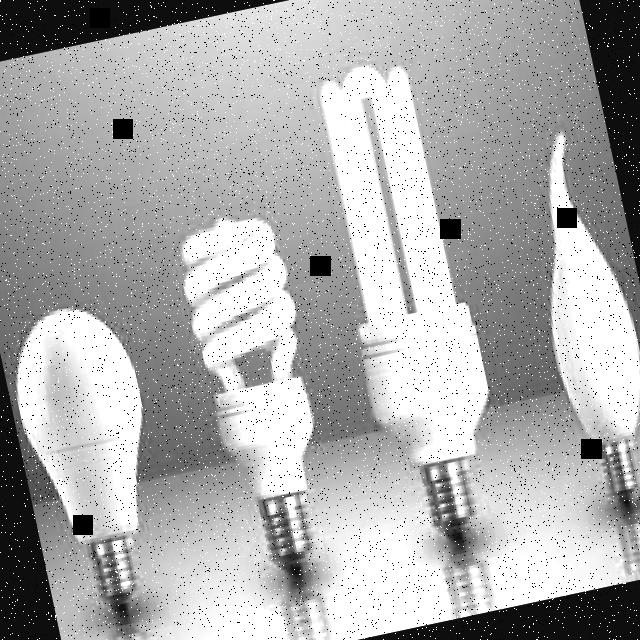light_bulb: (296, 52, 528, 586), (154, 195, 363, 606), (0, 279, 204, 640), (477, 90, 640, 537)
